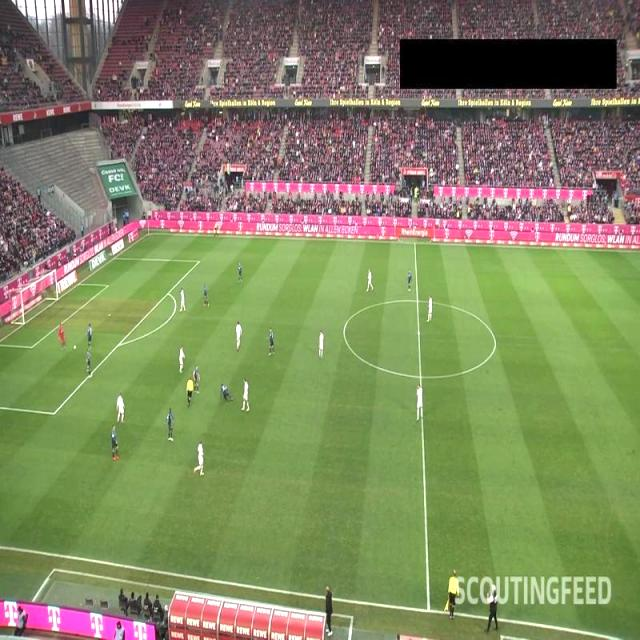bigarea_bottom_inner: (48, 408, 59, 419)
bigarea_top_inner: (194, 256, 205, 266)
bigarea_top_outter: (109, 253, 120, 264)
bottom_arc_area_intersection: (114, 339, 125, 350)
corner: (144, 228, 154, 239)
halfcircle_bottom: (414, 370, 427, 384)
halfcircle_top: (411, 294, 424, 308)
midline_bottom_intersection: (422, 602, 436, 618)
midline_top_intersection: (410, 237, 420, 248)
smallarea_bottom_inner: (27, 342, 38, 353)
smallarea_top_inner: (102, 280, 114, 291)
smallarea_top_outter: (73, 279, 84, 290)
top_arc_area_intersection: (163, 288, 174, 300)
